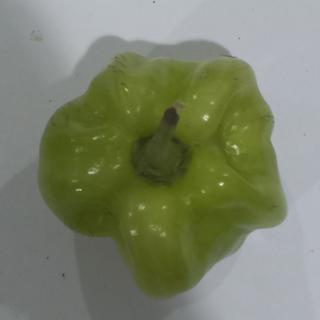Grade-B: (35, 46, 291, 305)
